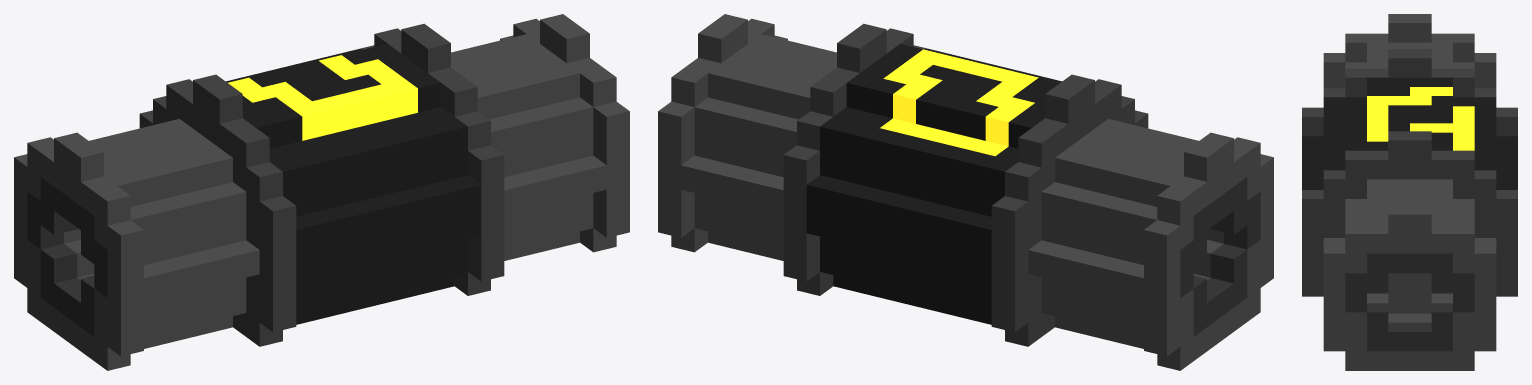
The model's file is item_EXOTIC_YNGVI.glb.
The picture shows the model from 3 angles, left to right: view 1: azimuth 30°, elevation 25°; view 2: azimuth 150°, elevation 25°; view 3: azimuth 270°, elevation 25°; orthographic projection. The views are drawn at different scales.
Parts seen in each view (by area): view 1: item_EXOTIC_YNGVI; view 2: item_EXOTIC_YNGVI; view 3: item_EXOTIC_YNGVI.
Part boxes in pixels (x1,y1,x2,y2): item_EXOTIC_YNGVI: (14,14,629,370); item_EXOTIC_YNGVI: (658,14,1273,370); item_EXOTIC_YNGVI: (1302,14,1517,370).
Size of the model in its own units: 0.5 by 0.2045 by 0.2273.
1 material, 1 textured.
